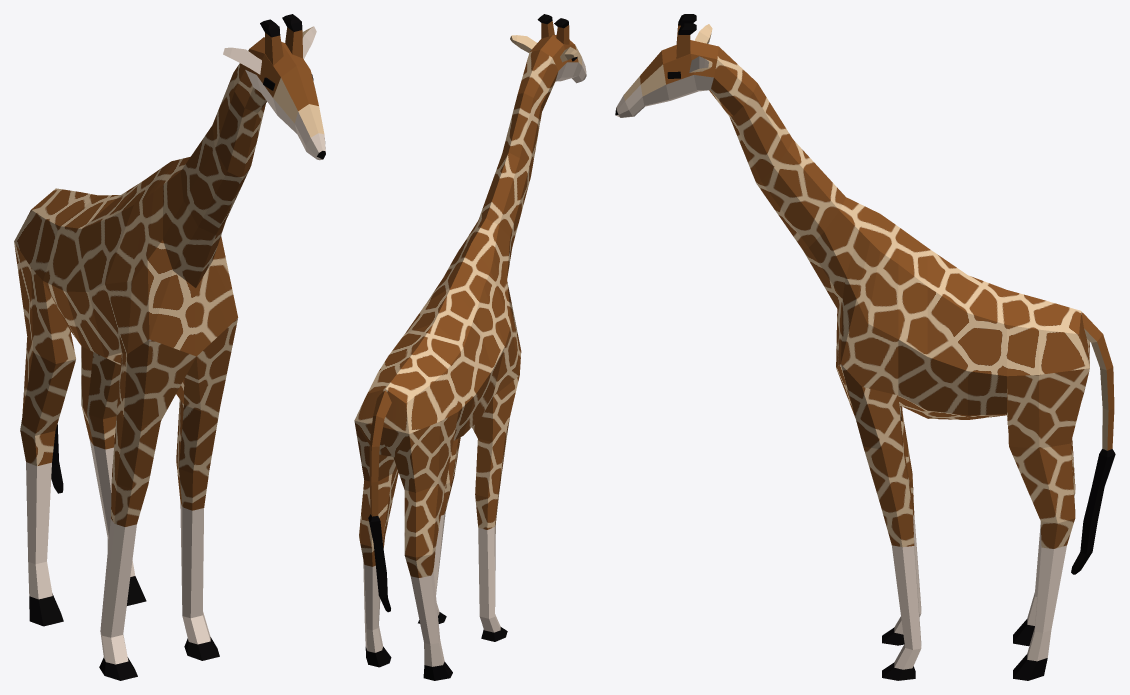
Rendered from Giraffe.glb.
The picture shows the model from 3 angles, left to right: view 1: azimuth 30°, elevation 25°; view 2: azimuth 150°, elevation 25°; view 3: azimuth 270°, elevation 25°; orthographic projection. The views are drawn at different scales.
Visible parts, largest first — view 1: Geo_Giraffe; view 2: Geo_Giraffe; view 3: Geo_Giraffe.
Part boxes in pixels (x1,y1,x2,y2): Geo_Giraffe: (14,14,325,680); Geo_Giraffe: (354,14,586,680); Geo_Giraffe: (615,14,1115,680).
Bounding box in the file's own units: 58.77 × 362 × 258.
1 material, 1 textured.
